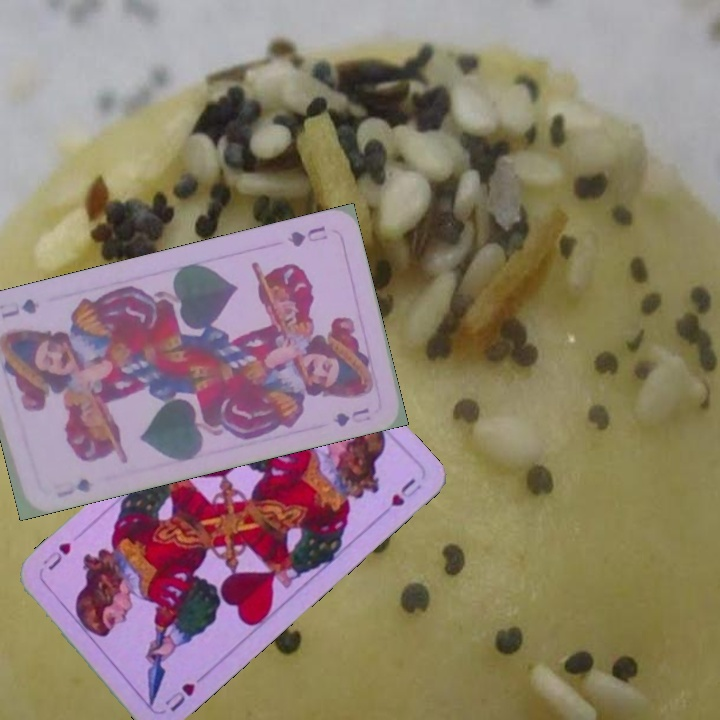GU: (283, 221, 330, 250), (53, 474, 96, 501)
HU: (160, 670, 208, 715)
